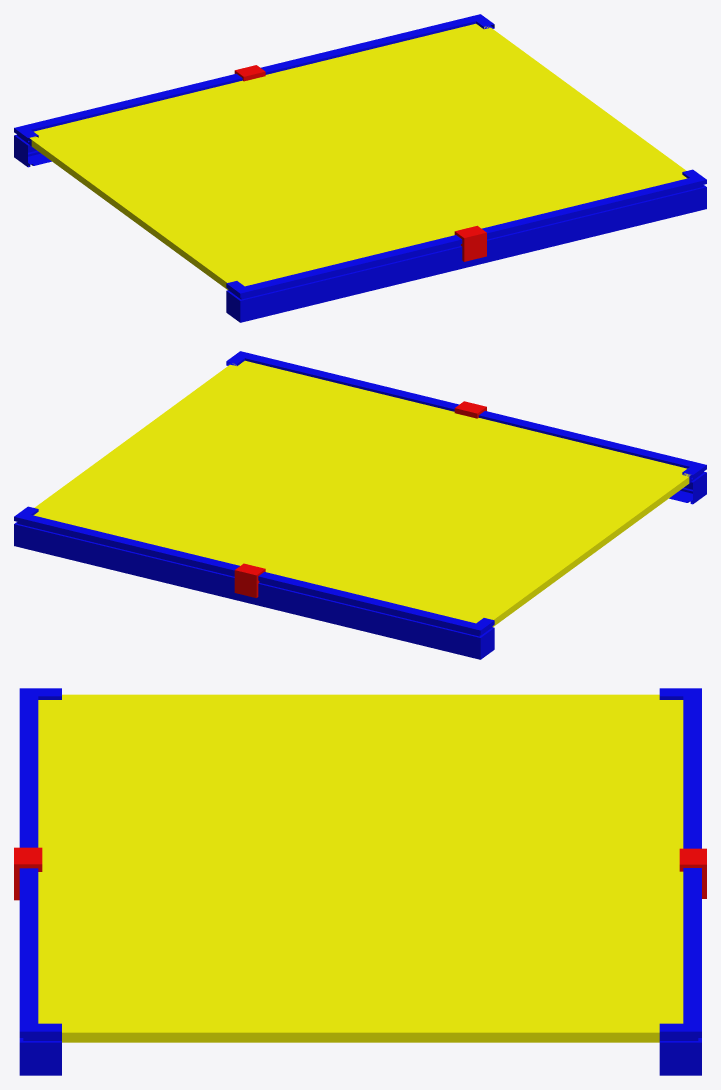
3 renders of one model, top to bottom at view 1: azimuth 30°, elevation 25°; view 2: azimuth 150°, elevation 25°; view 3: azimuth 270°, elevation 25°, orthographic. The views are drawn at different scales.
Visible parts, largest first — view 1: variable, fixed2, fixed1, snap1; view 2: variable, fixed1, fixed2, snap2; view 3: variable, fixed2, fixed1, snap1, snap2.
Boxes of the visible parts, left/top/right/bottom form: variable: left=30, top=23, right=687, bottom=289; fixed2: left=226, top=169, right=706, bottom=322; fixed1: left=14, top=14, right=494, bottom=167; snap1: left=454, top=225, right=486, bottom=261; variable: left=33, top=360, right=690, bottom=626; fixed1: left=14, top=506, right=494, bottom=659; fixed2: left=226, top=351, right=706, bottom=504; snap2: left=234, top=563, right=265, bottom=597; variable: left=38, top=694, right=683, bottom=1042; fixed2: left=19, top=688, right=61, bottom=1075; fixed1: left=659, top=688, right=701, bottom=1075; snap1: left=14, top=847, right=42, bottom=900; snap2: left=679, top=848, right=706, bottom=898.
Bounding box in the file's own units: 0.5 × 0.0327 × 0.4266.
